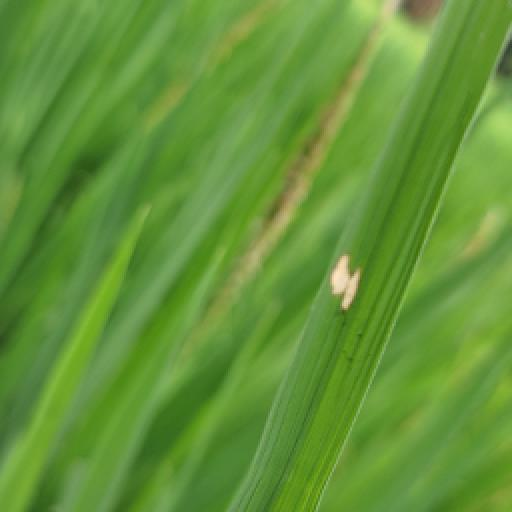Bacterial Leaf Blight: (316, 240, 372, 320)
